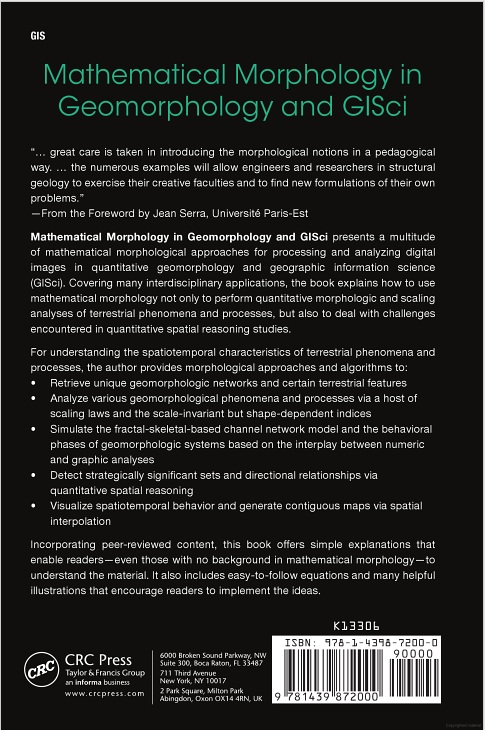barcode: (277, 634, 441, 706)
